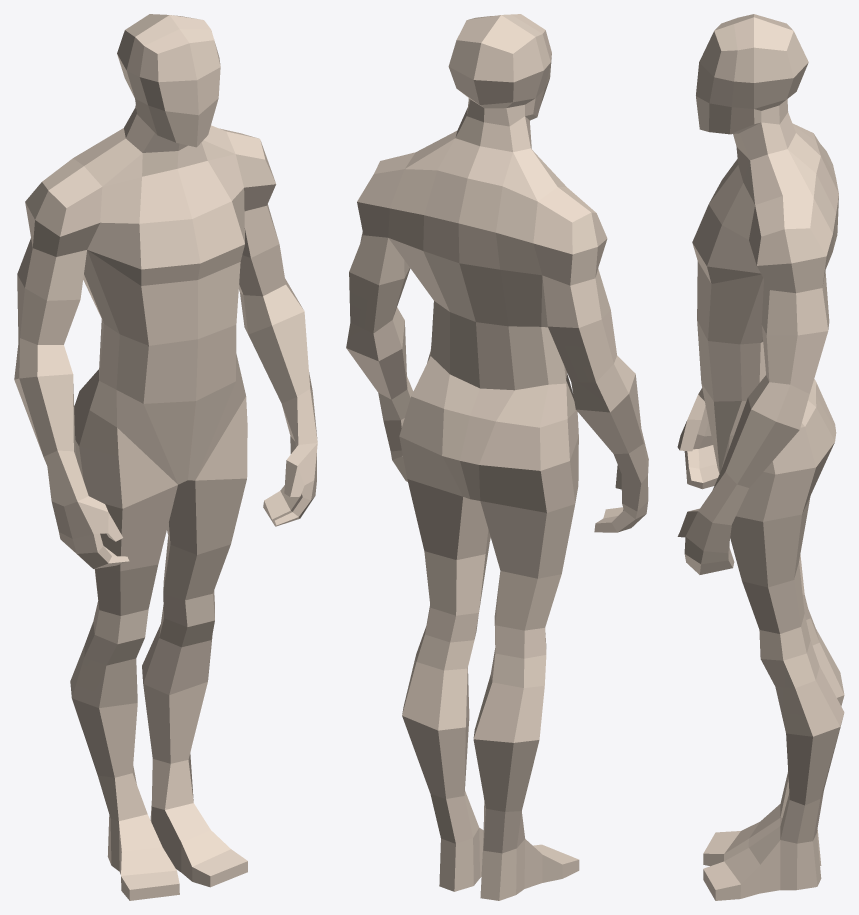
The picture shows the model from 3 angles, left to right: view 1: azimuth 30°, elevation 25°; view 2: azimuth 150°, elevation 25°; view 3: azimuth 270°, elevation 25°; orthographic projection.
Parts seen in each view (by area): view 1: Cube.003; view 2: Cube.003; view 3: Cube.003.
Boxes of the visible parts, left/top/right/bottom form: Cube.003: left=14, top=14, right=317, bottom=900; Cube.003: left=346, top=14, right=648, bottom=900; Cube.003: left=677, top=14, right=844, bottom=900.
Size of the model in its own units: 56.9 by 167 by 29.63.
